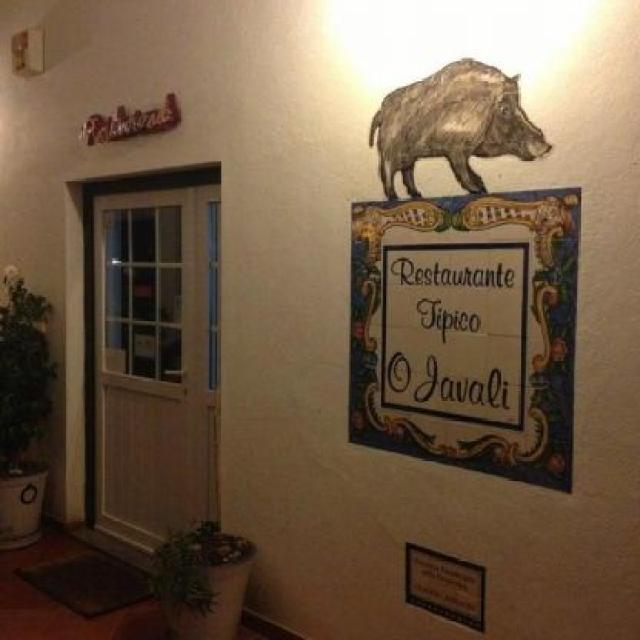wildboar: (360, 48, 568, 209)
